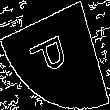P_E: (31, 29, 79, 81)
